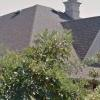Chimney: (55, 1, 86, 21)
